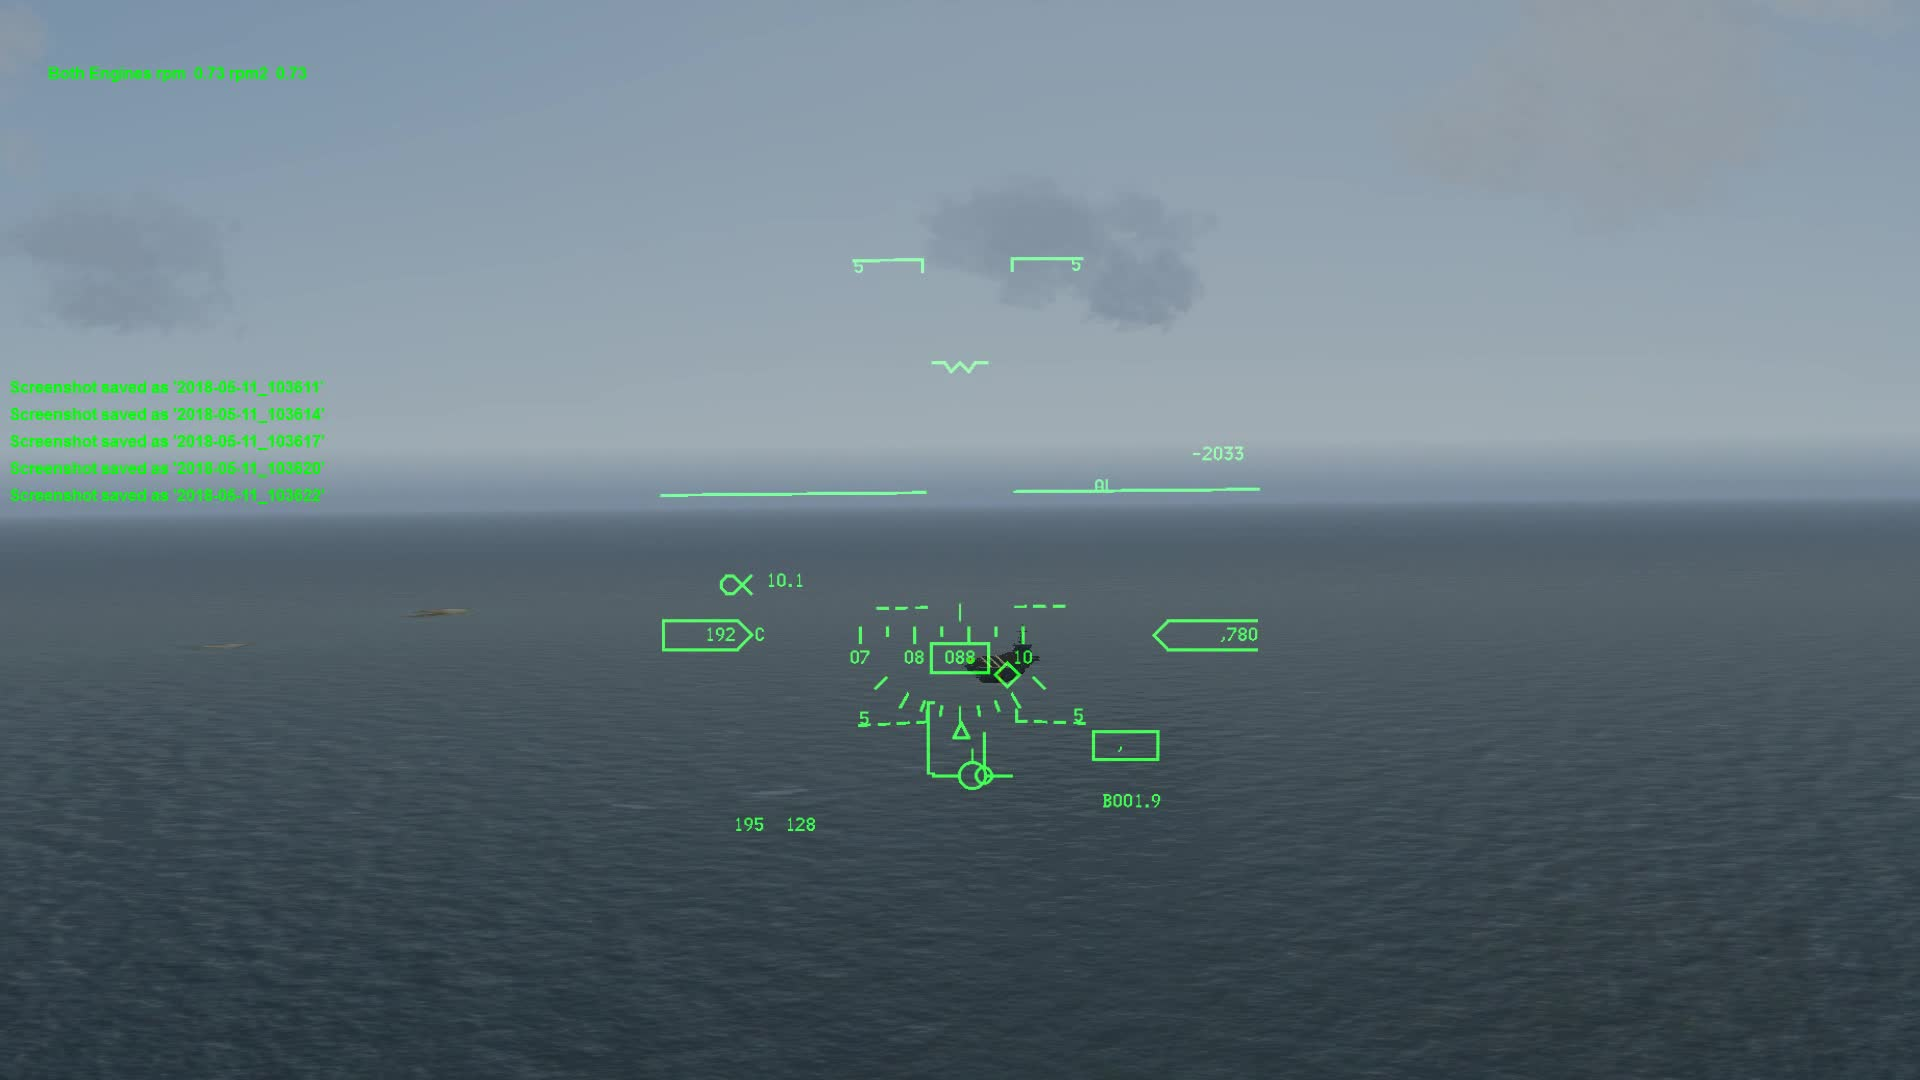speed vector: (934, 752, 1011, 803)
